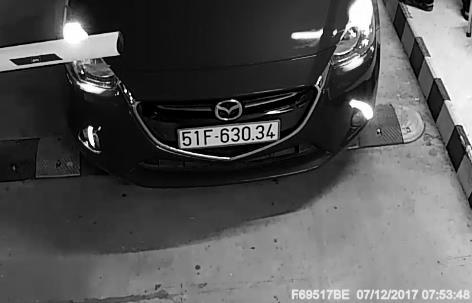License-plate: (175, 112, 288, 159)
